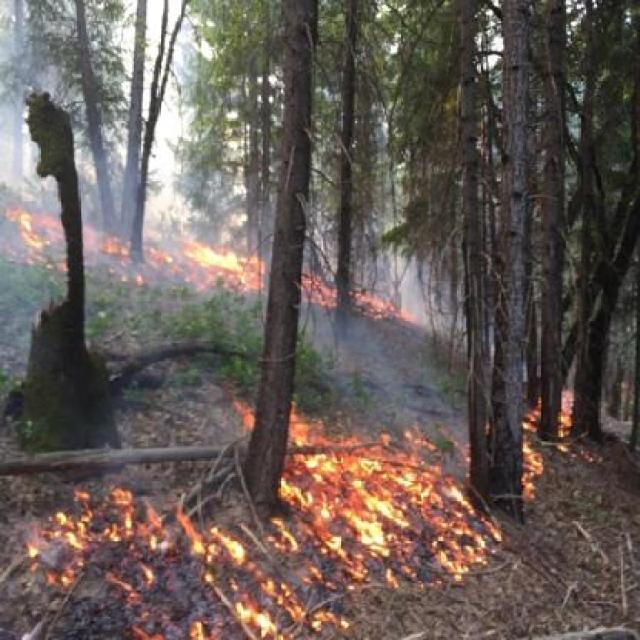Fire: (8, 398, 479, 640), (7, 202, 420, 324), (518, 383, 556, 510), (562, 362, 579, 462)
